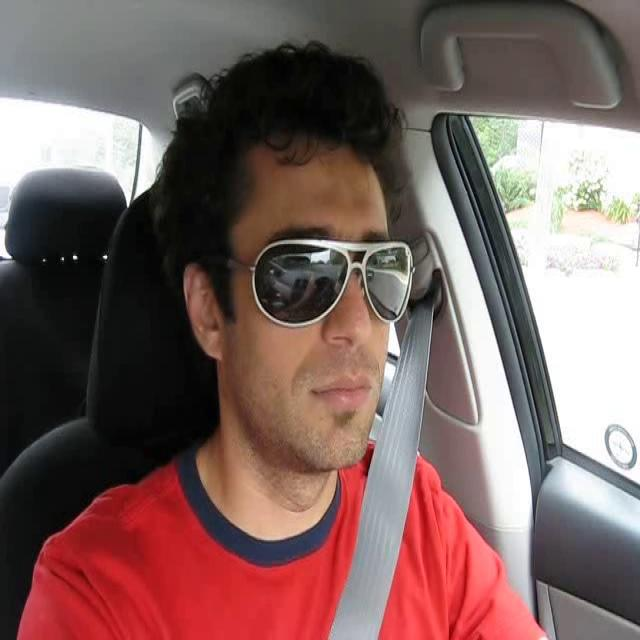close: (304, 366, 376, 416)
